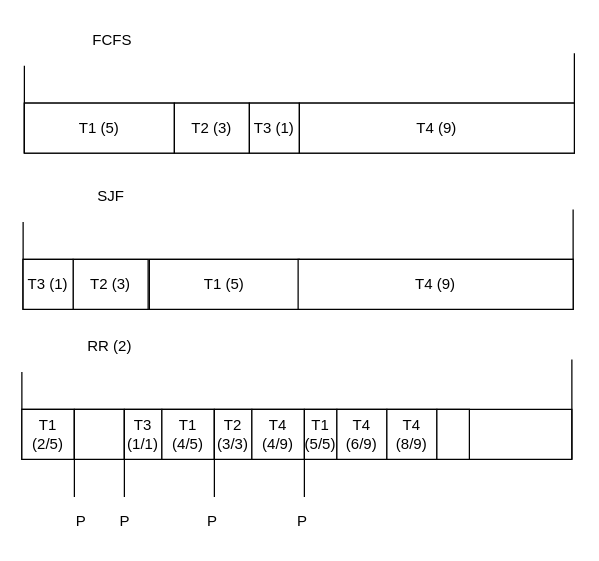
Some shapes in this 599 by 561 pixel diagram are drawn without their labels. The shapes that lost their labels are listed below. From the top down, each one's centre as x and y in pixels, then its label:
At (98,433): "T2 (2/3)".
At (452,433): "T4 (9/9)".
